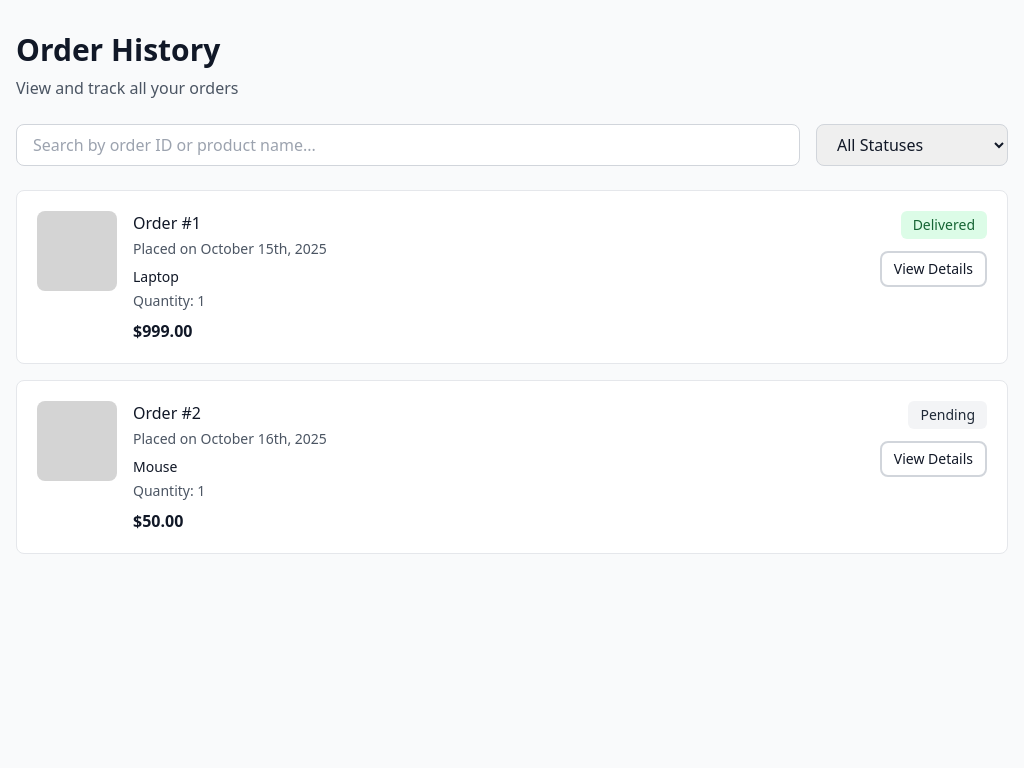
OrderHistory Page › shows empty filtered state when no matches
Expected: the text "Laptop" is shown, [133,267,179,286]
In the field with placeholder "Search by order ID or product name...": (408,145) [16,124,800,166], type "nonexistent"
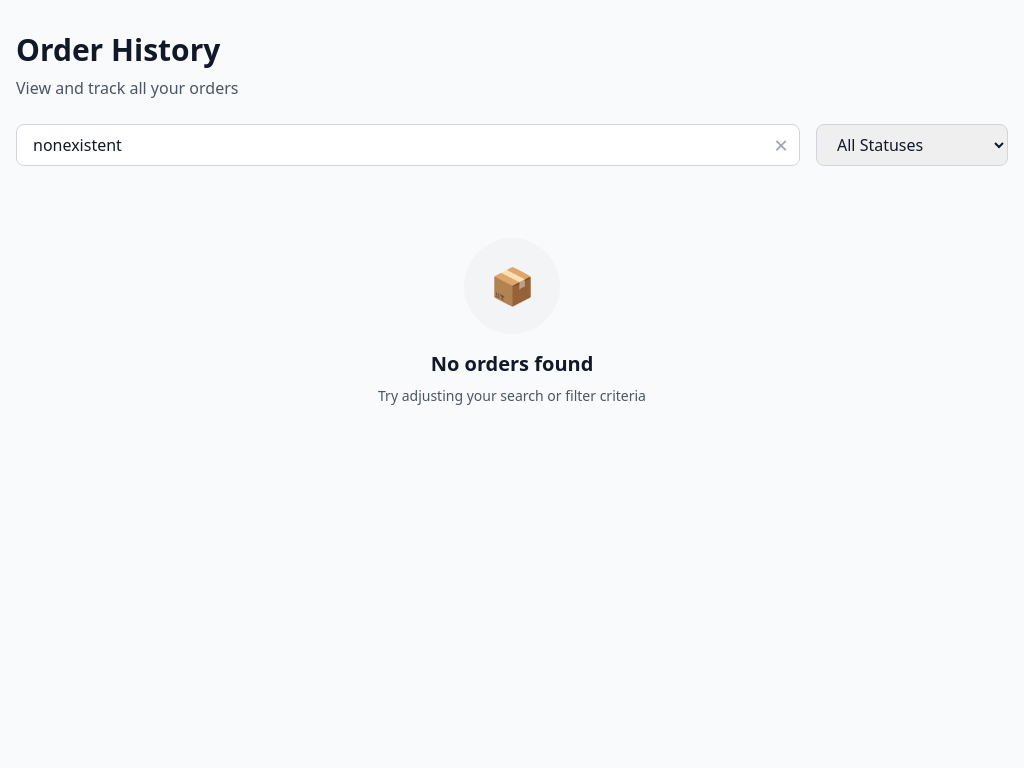
Result: the heading "No orders found" is shown at [431,350,593,378]
